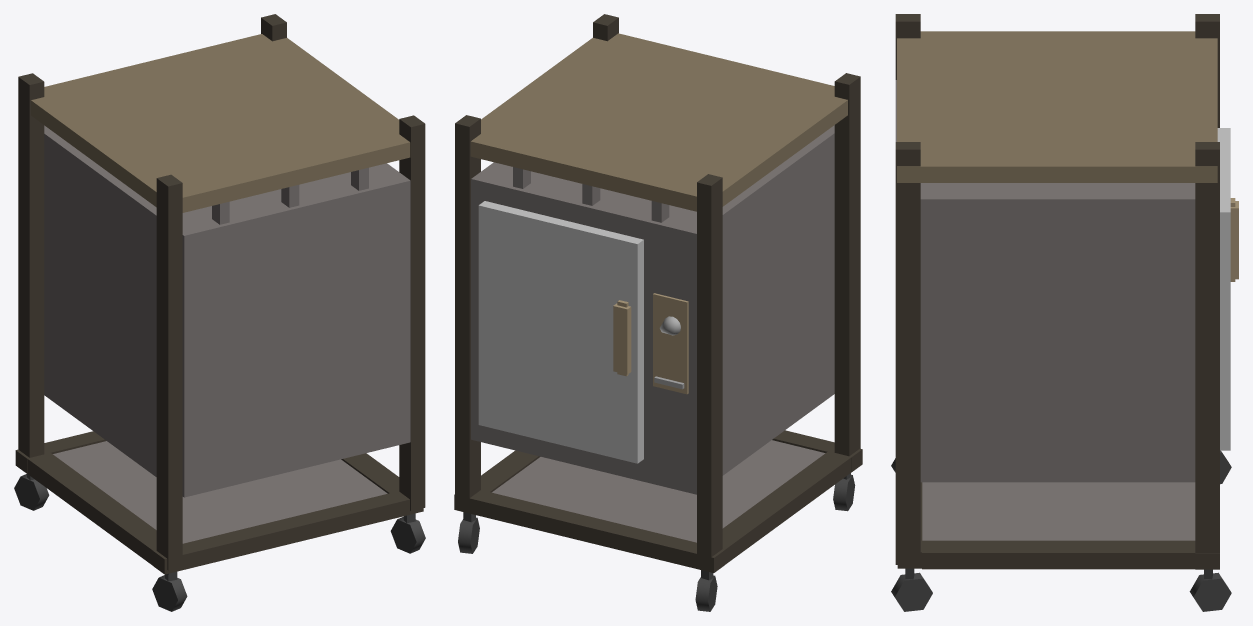
The model's file is SM_Frig_01.fbx.
The picture shows the model from 3 angles, left to right: view 1: azimuth 30°, elevation 25°; view 2: azimuth 150°, elevation 25°; view 3: azimuth 270°, elevation 25°; orthographic projection. The views are drawn at different scales.
Parts seen in each view (by area): view 1: SM_Frig_01; view 2: SM_Frig_01; view 3: SM_Frig_01.
Part boxes in pixels (left/top/right/bottom): SM_Frig_01: left=14, top=14, right=425, bottom=611; SM_Frig_01: left=454, top=14, right=862, bottom=611; SM_Frig_01: left=891, top=14, right=1238, bottom=611.
Size of the model in its own units: 106 by 166 by 113.
3 materials, 3 textured.
